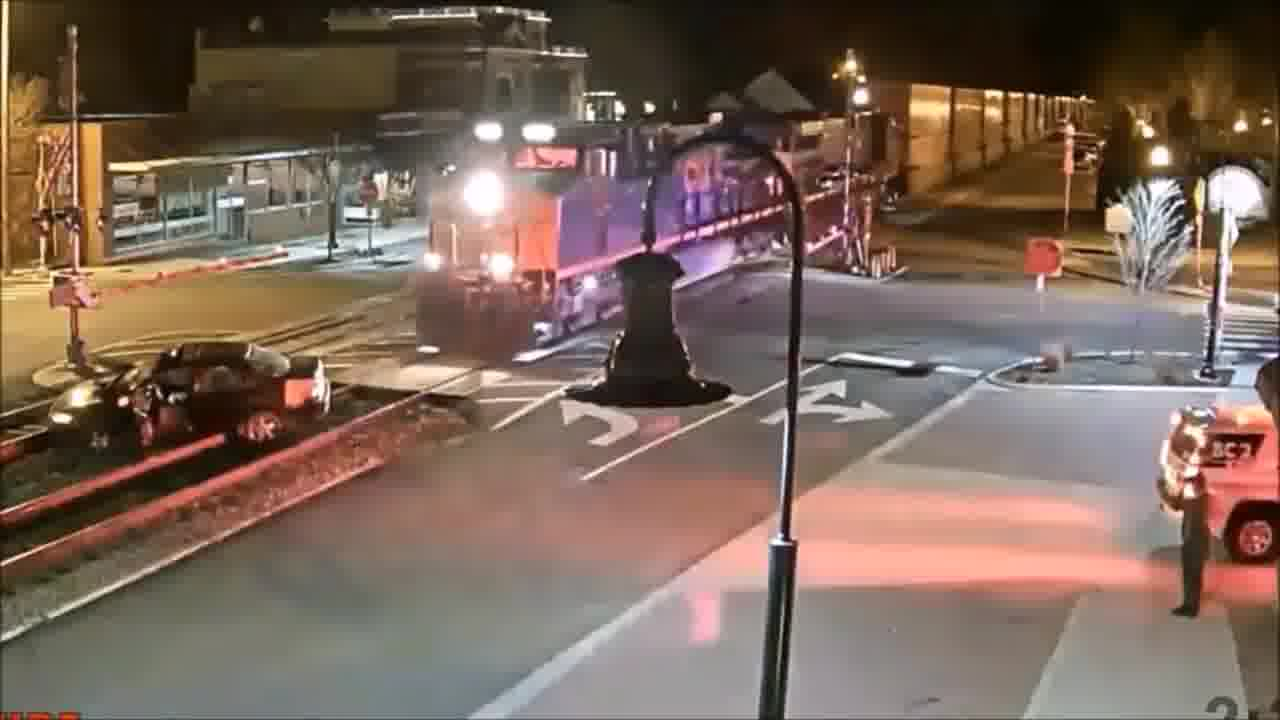crossing railway track: (36, 326, 322, 477)
